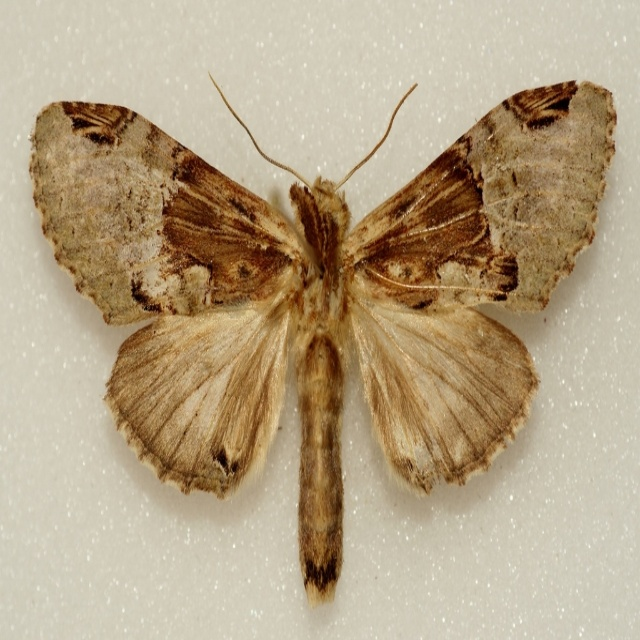Butterfly: (27, 72, 616, 603)
